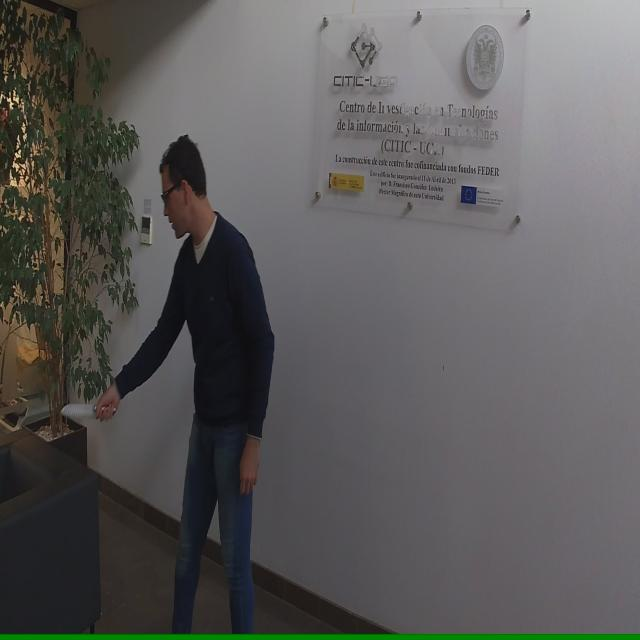knife: (58, 396, 119, 424)
